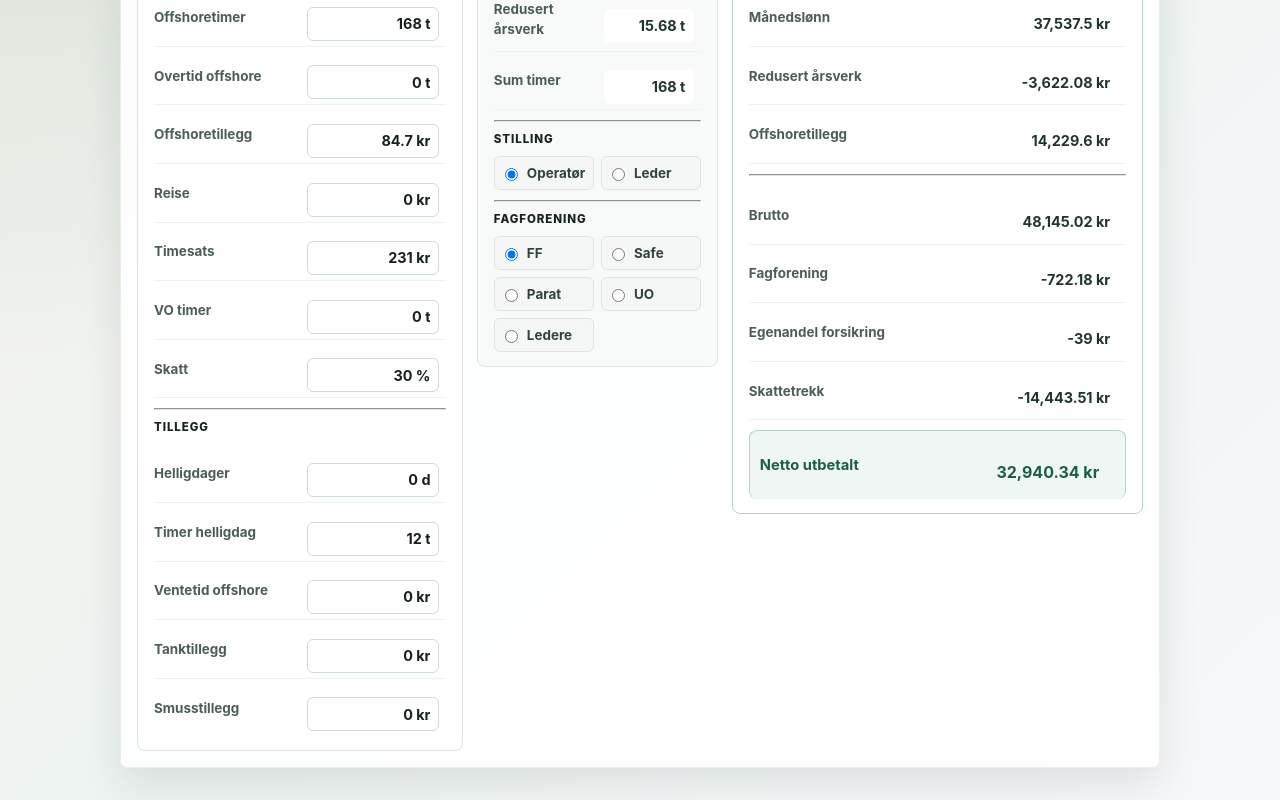
Test: adds extra compensation amounts to gross salary
(page scrolled)
Replace the text in the field with id "tankAllowance" with "500 kr" at (373, 656), box top-left (307, 639), bottom-right (439, 673)
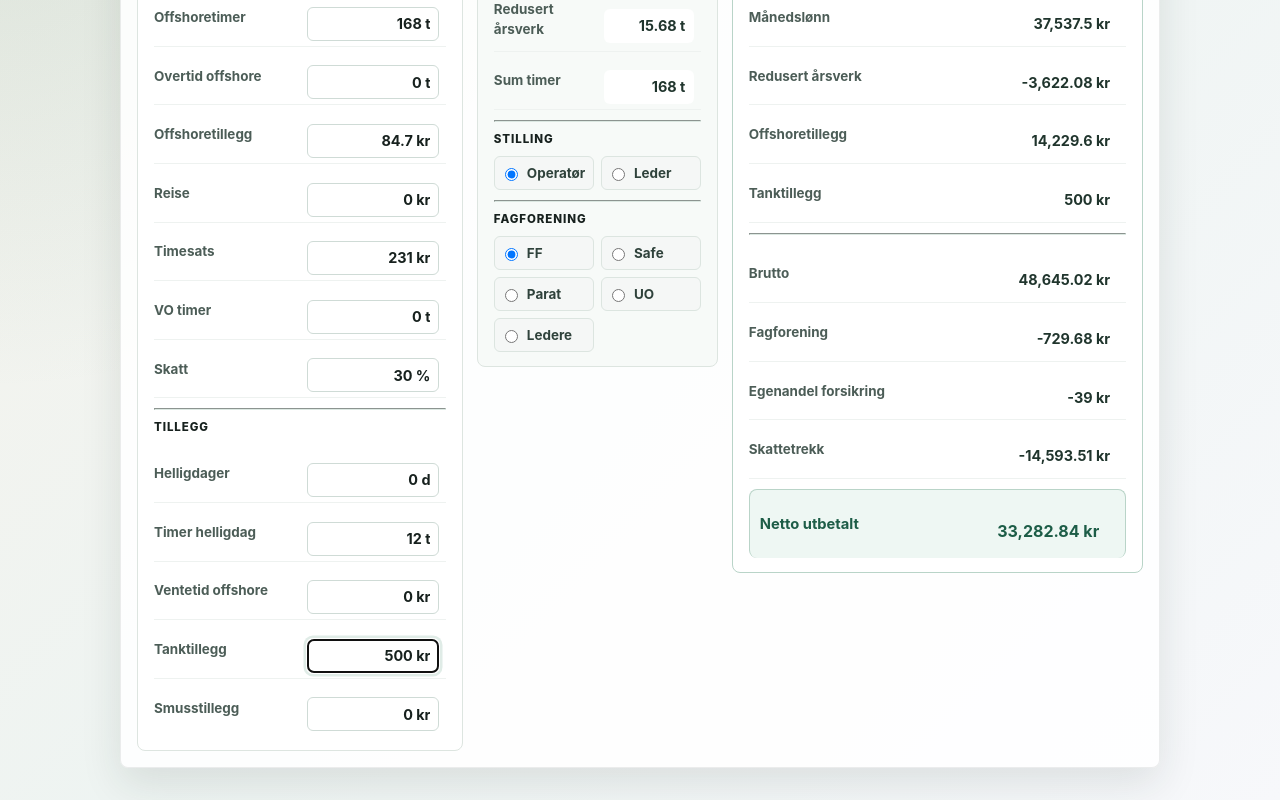
Expected: the field labelled "Brutto" holds "48,645.02 kr", top-left (944, 263), bottom-right (1119, 297)
Expected: the field with id "tankAllowanceSummary" holds "500 kr", top-left (944, 183), bottom-right (1119, 217)
